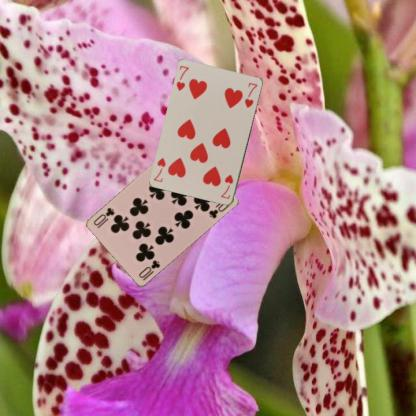10c: (136, 258, 162, 280)
7h: (218, 172, 235, 201), (174, 63, 190, 92)
